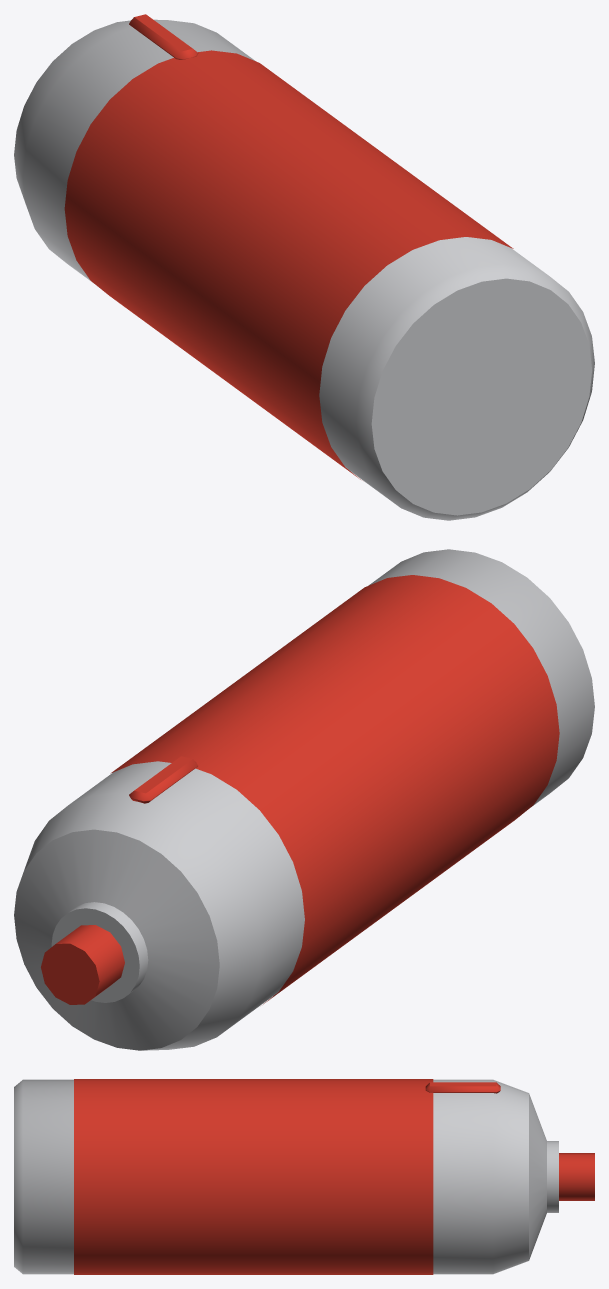
The model's file is spray_can.glb.
3 renders of one model, top to bottom at view 1: azimuth 30°, elevation 25°; view 2: azimuth 150°, elevation 25°; view 3: azimuth 270°, elevation 25°, orthographic. The views are drawn at different scales.
Visible parts, largest first — view 1: spray_can; view 2: spray_can; view 3: spray_can.
Part boxes in pixels (x1,y1,x2,y2): spray_can: [14, 14, 594, 520]; spray_can: [14, 549, 594, 1050]; spray_can: [14, 1079, 594, 1274].
Size of the model in its own units: 0.0636 by 0.065 by 0.1888.
